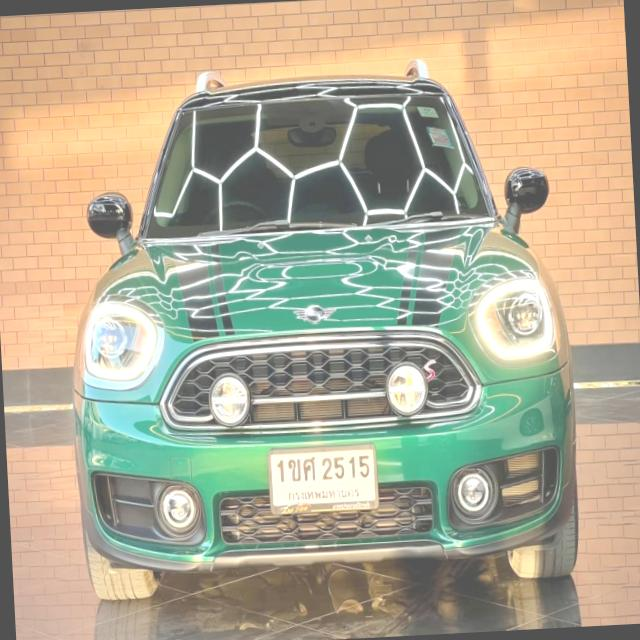license_plate: (266, 443, 381, 517)
